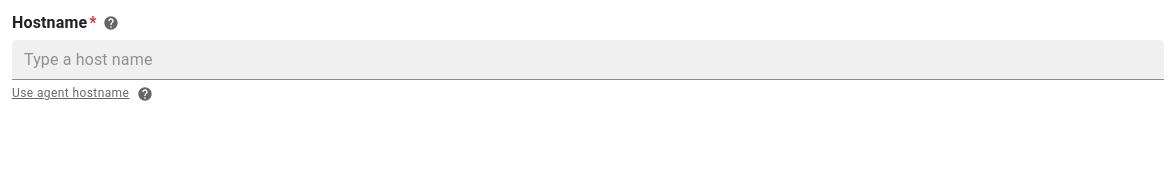
Test: Use agent hostname › fills the field with localhost
Click the button "Use agent hostname": [71, 94] box [12, 84, 129, 104]
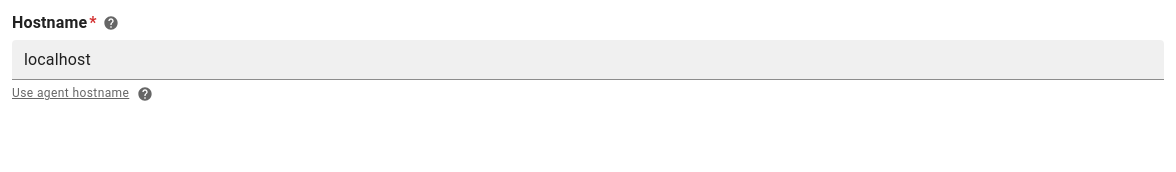
Expected: the dropdown holds "localhost", [20, 40, 1164, 80]
